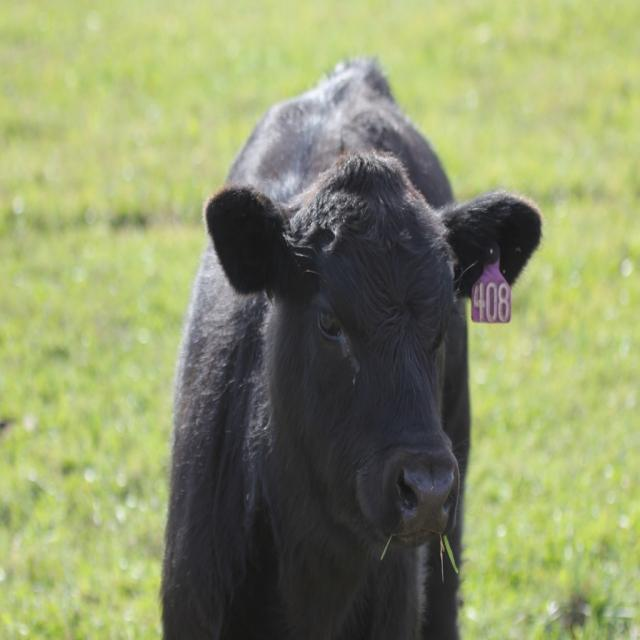Cattle: (158, 53, 546, 640)
